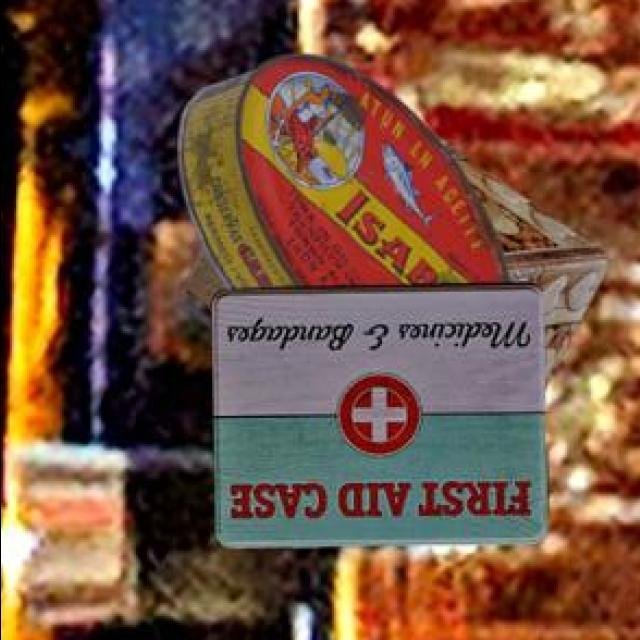logam: (182, 145, 606, 391), (208, 286, 543, 550), (175, 58, 506, 293)
